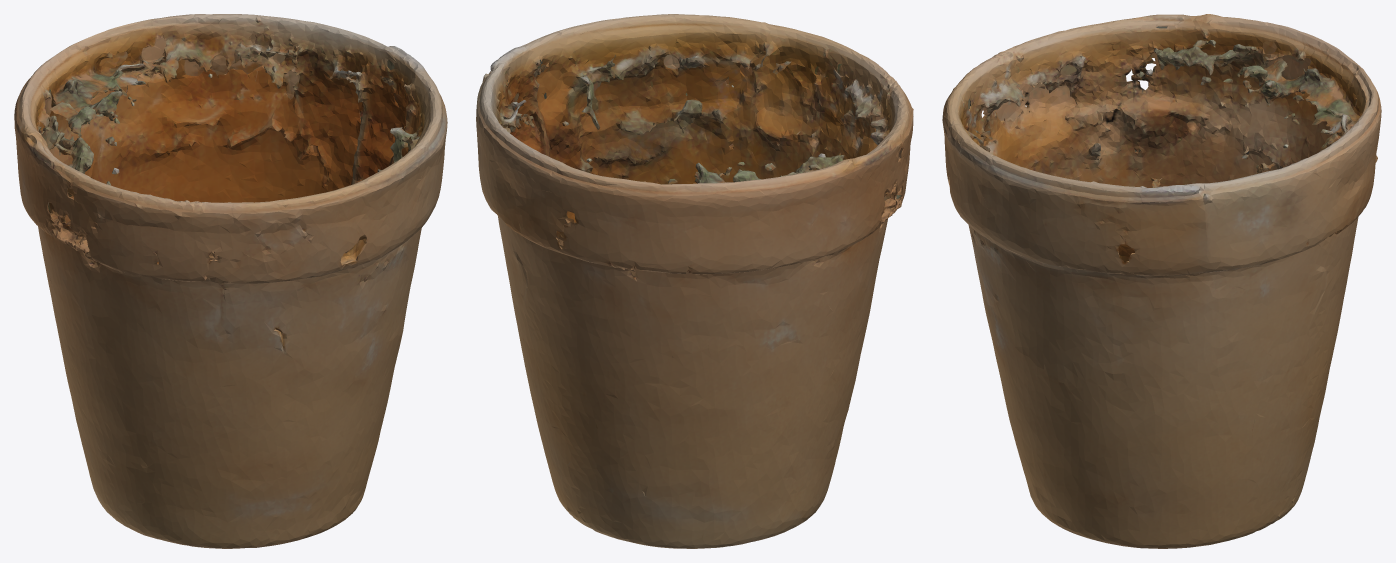
3 renders of one model, left to right at view 1: azimuth 30°, elevation 25°; view 2: azimuth 150°, elevation 25°; view 3: azimuth 270°, elevation 25°, orthographic.
Parts seen in each view (by area): view 1: world; view 2: world; view 3: world.
Part boxes in pixels (box(x1,y1,x2,y2)): world: box(14, 14, 447, 548); world: box(476, 14, 913, 548); world: box(942, 14, 1381, 548).
Size of the model in its own units: 0.9901 by 0.9945 by 0.991.
Materials: 1 (1 with a texture image).
